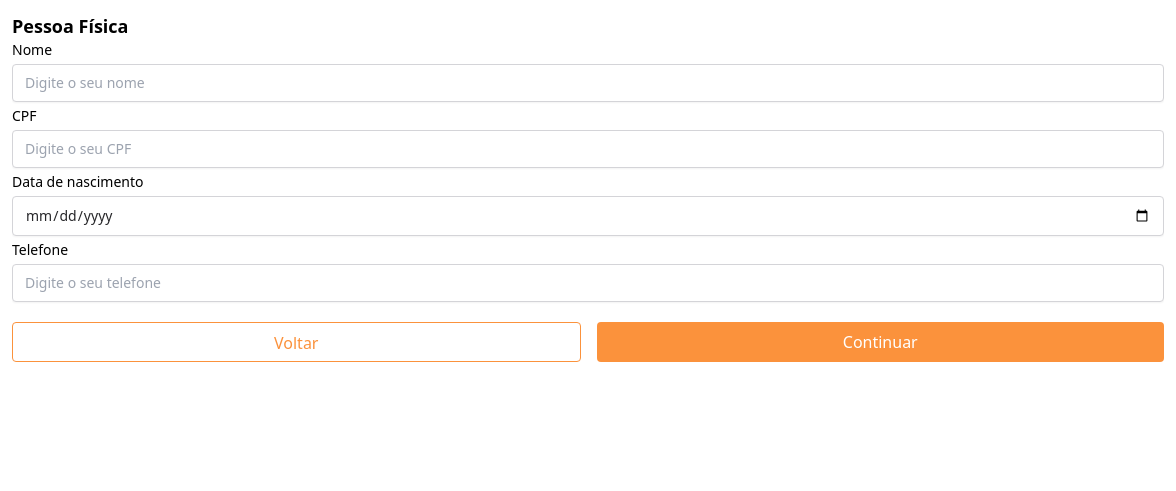
Test: Step 2 Form - Person › should display validation errors when person form fields are missing by Step 2 User Type Person
The width and height of the screenshot is (1176, 491).
Click the button "Continuar" at x=880, y=342, box x1=596 y1=322 x2=1164 y2=362
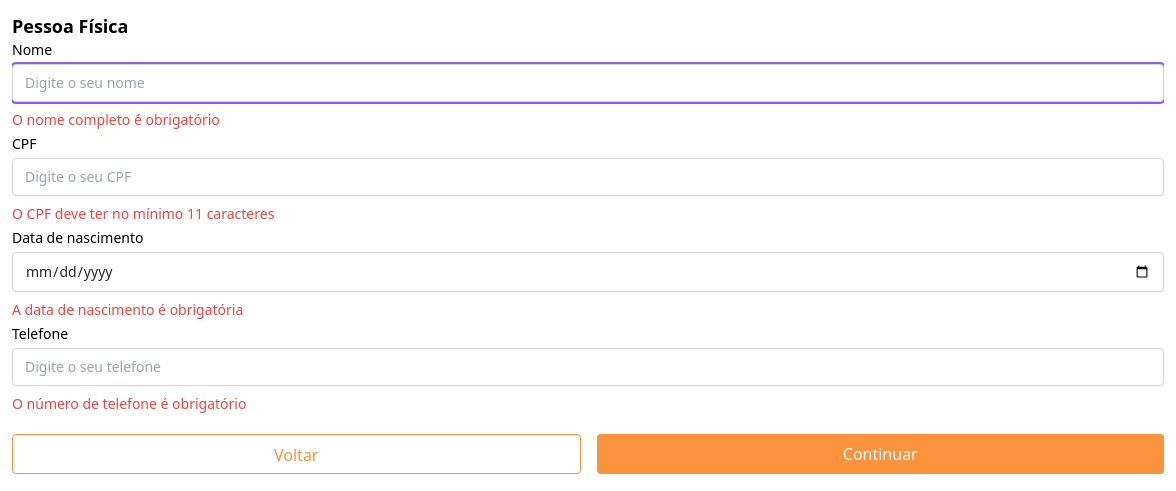
expect the text "O nome completo é obrigatório" is shown: met, box x1=12 y1=110 x2=220 y2=129
expect the text "O CPF deve ter no mínimo 11 caracteres" is shown: met, box x1=12 y1=204 x2=274 y2=223
expect the text "A data de nascimento é obrigatória" is shown: met, box x1=12 y1=300 x2=243 y2=319
